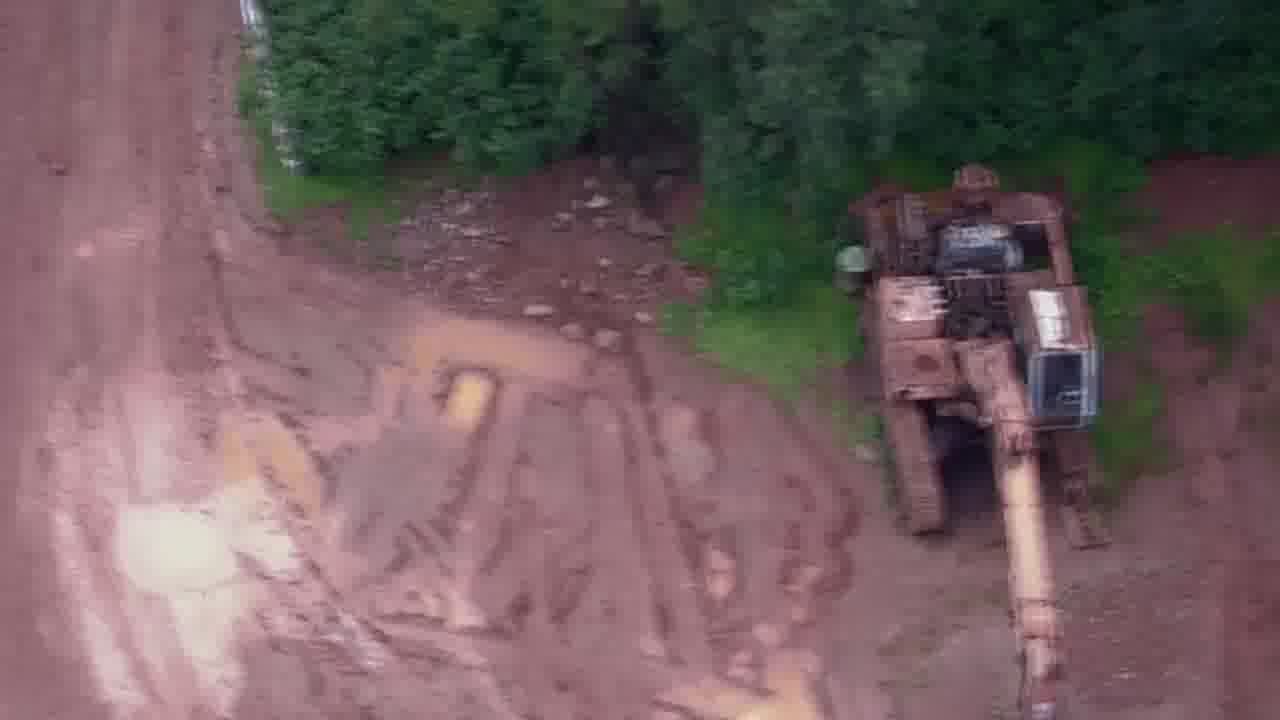HMV: (838, 161, 1113, 719)
